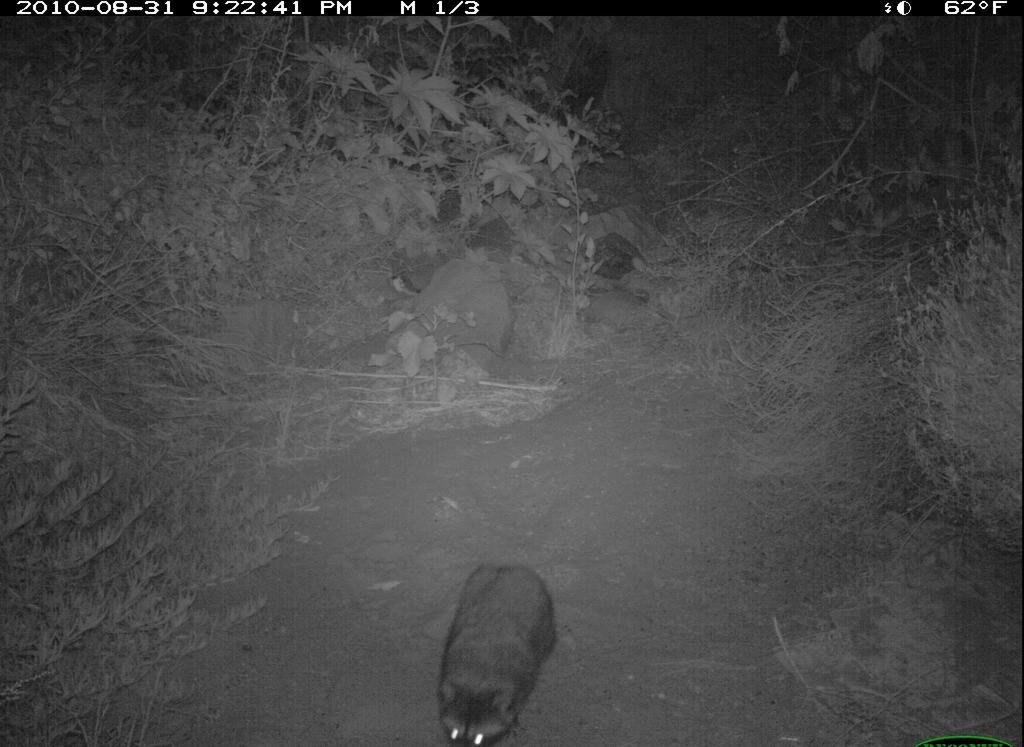raccoon: (422, 551, 571, 745)
